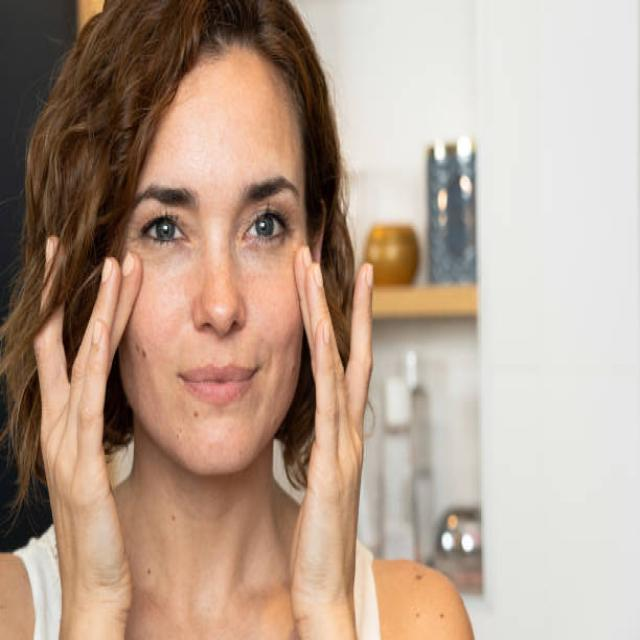dry: (246, 256, 306, 402), (182, 76, 286, 156)
